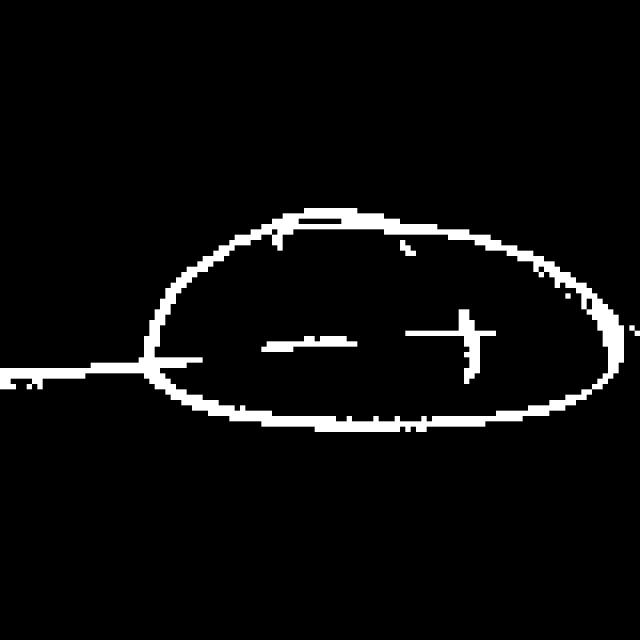voltage_source: (133, 180, 626, 465)
